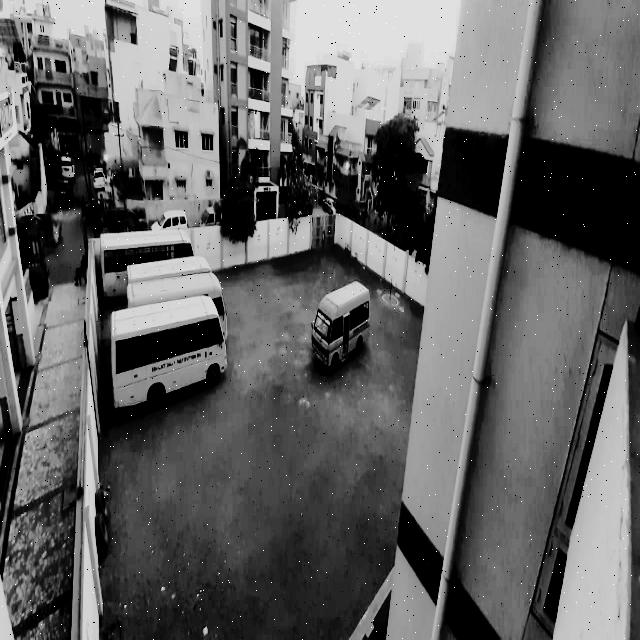Bus: (112, 302, 235, 423), (309, 270, 376, 390), (129, 273, 237, 330), (99, 230, 194, 288), (126, 254, 214, 278)
